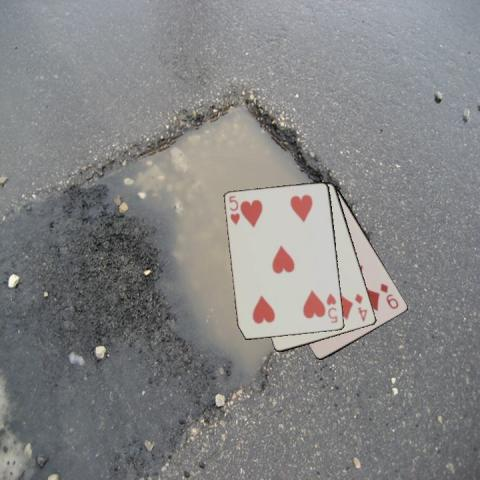4d: (352, 291, 369, 323)
5h: (323, 290, 339, 325), (226, 193, 241, 226)
9d: (377, 280, 400, 311)
